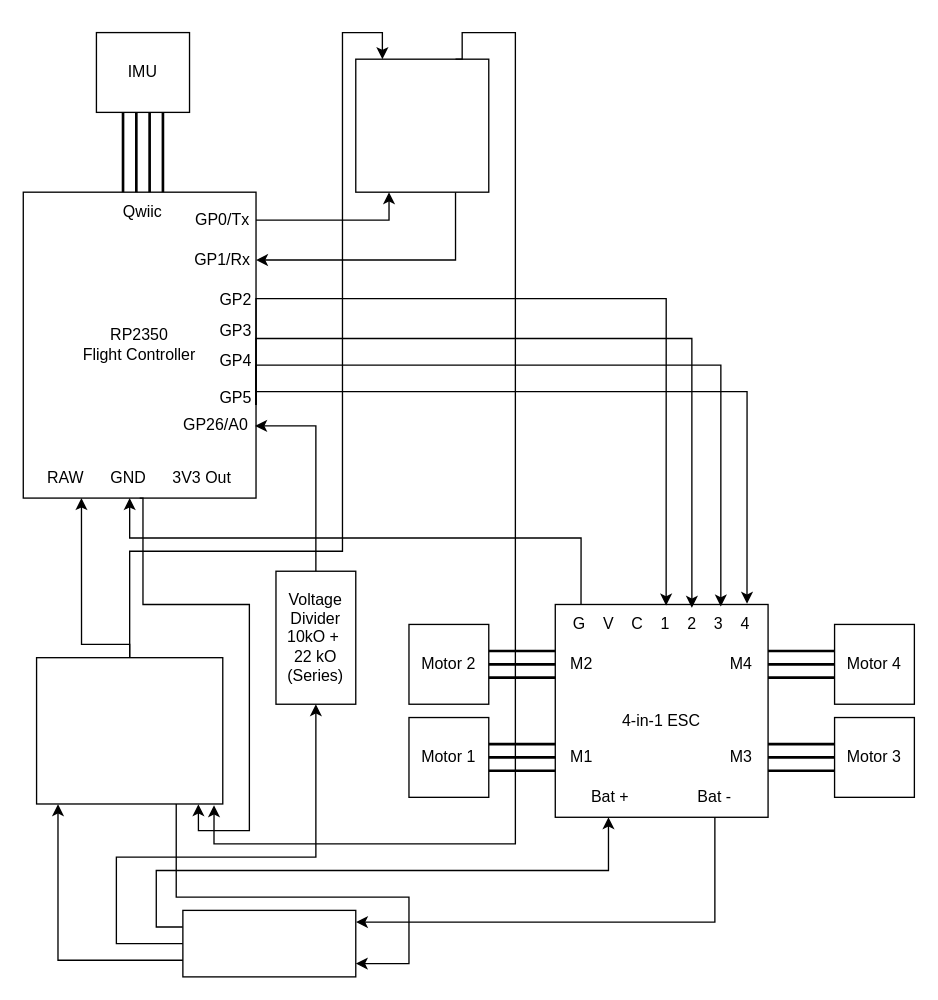
This 938x1000 diagram has some shape labels left out. Each missing label, with the centre of its shape:
+ Battery - 7.6V Nominal: the point at 269,943
Vin Gnd Radio Reciever Rx Tx: the point at 421,125
Vout 5V Voltage Regulator Vin PG SHDN GND: the point at 129,730
